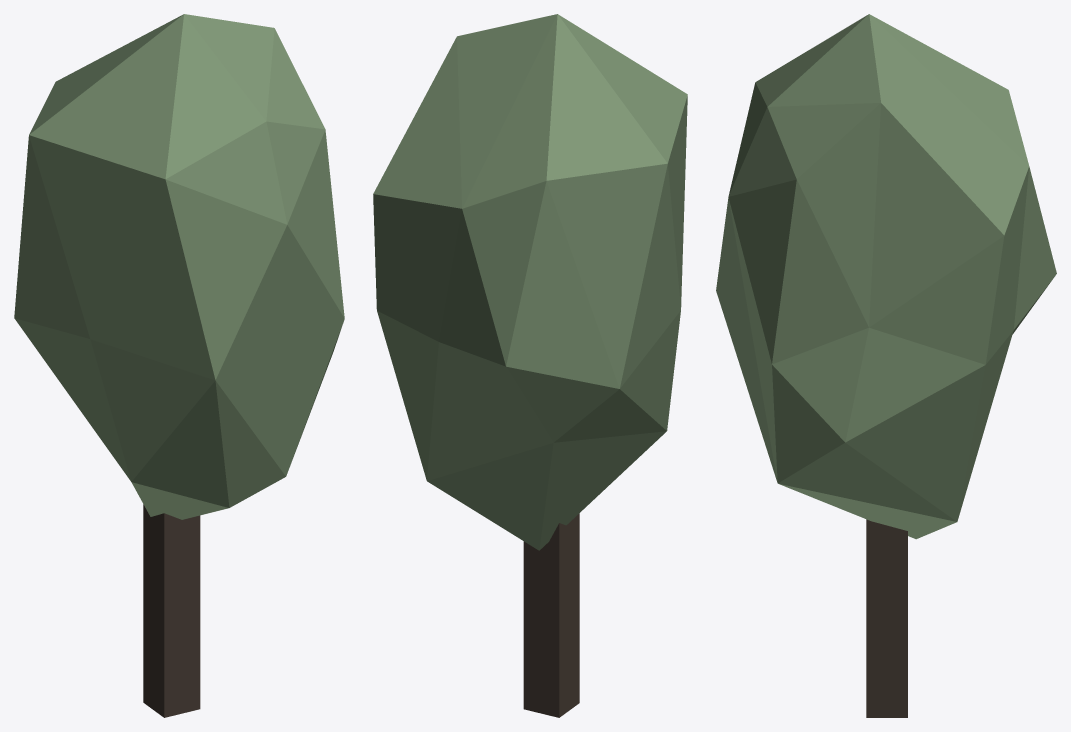
Rendered from tree_small_1.glb.
The picture shows the model from 3 angles, left to right: view 1: azimuth 30°, elevation 25°; view 2: azimuth 150°, elevation 25°; view 3: azimuth 270°, elevation 25°; orthographic projection.
Visible parts, largest first — view 1: Tree2; view 2: Tree2; view 3: Tree2.
Part boxes in pixels (x1=…): Tree2: x1=14, y1=14, x2=344, y2=717; Tree2: x1=373, y1=14, x2=687, y2=717; Tree2: x1=716, y1=14, x2=1056, y2=717.
Bounding box in the file's own units: 0.6099 × 1.5 × 0.6648.
